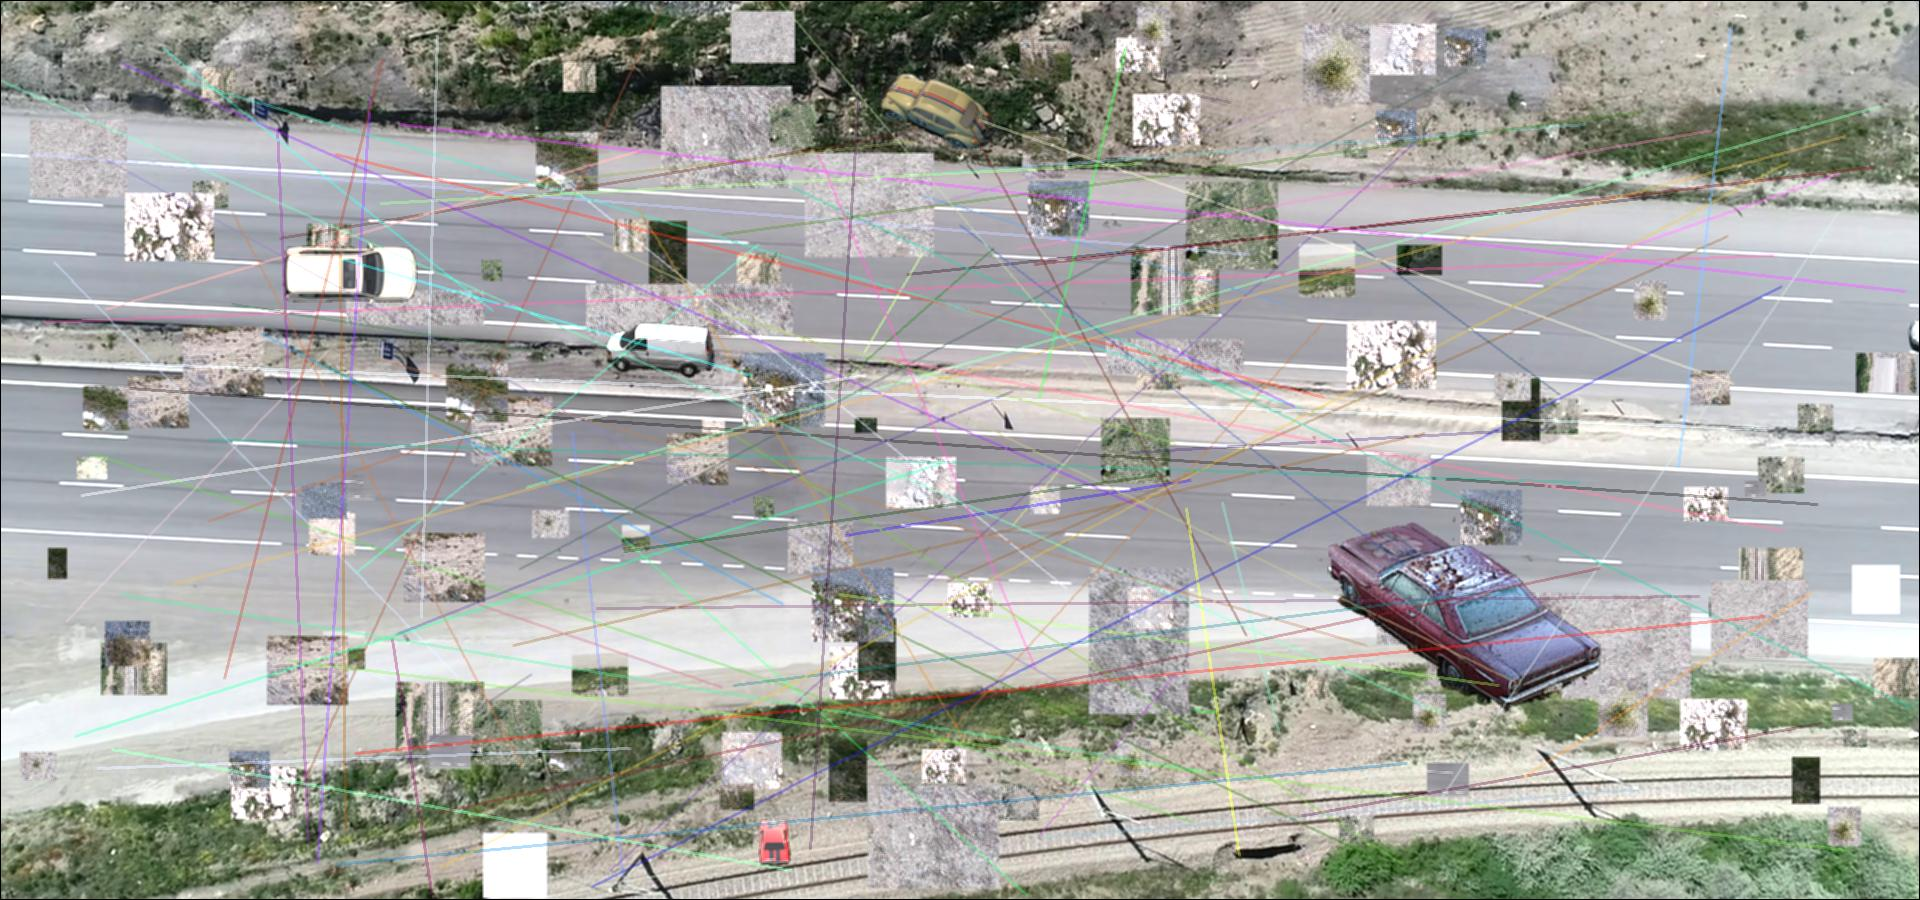arac: (1313, 500, 1611, 711), (279, 240, 422, 309), (879, 73, 996, 153), (607, 322, 714, 378), (756, 818, 791, 867)
